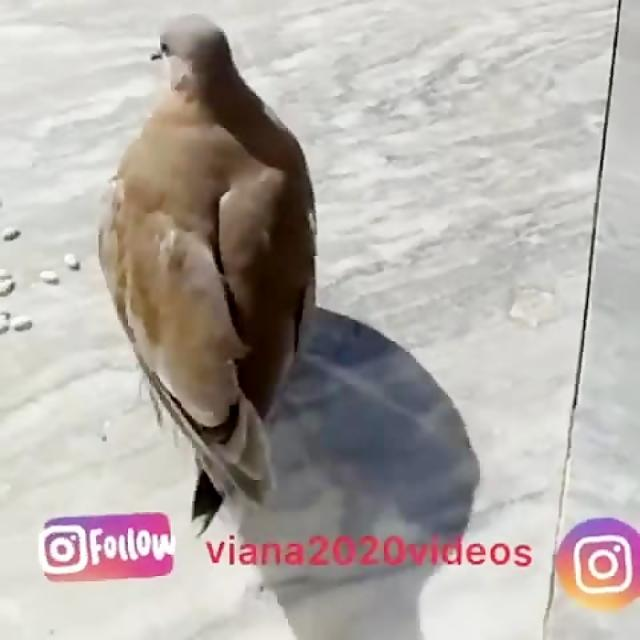dove: (102, 11, 354, 528)
